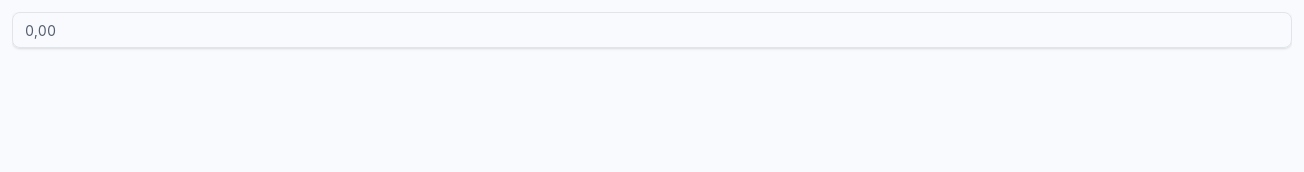
DecimalInput — blur normaliza › recorta al min en blur
In the field named "num": (652, 30) [12,12,1292,48], type "2"
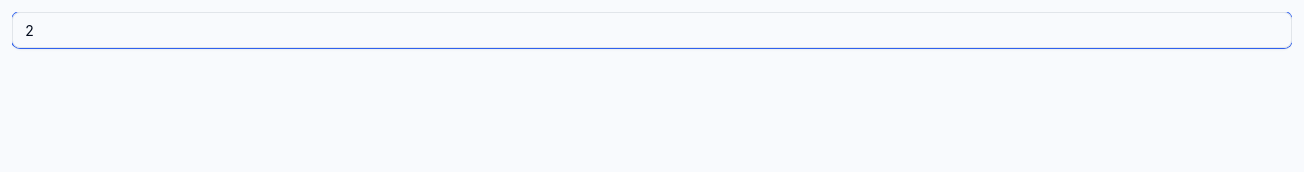
Leave the field named "num", box [12,12,1292,48]
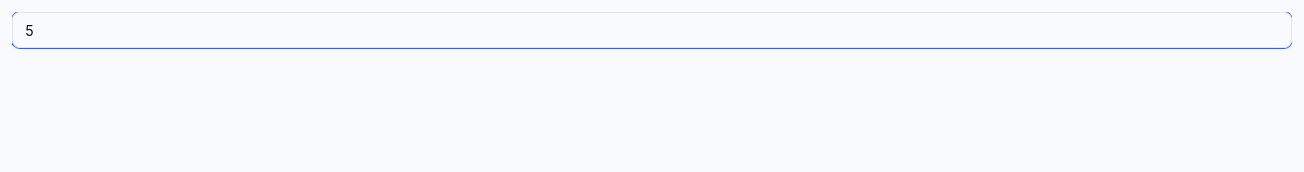
Expected: the field named "num" holds "5", [12,12,1292,48]
